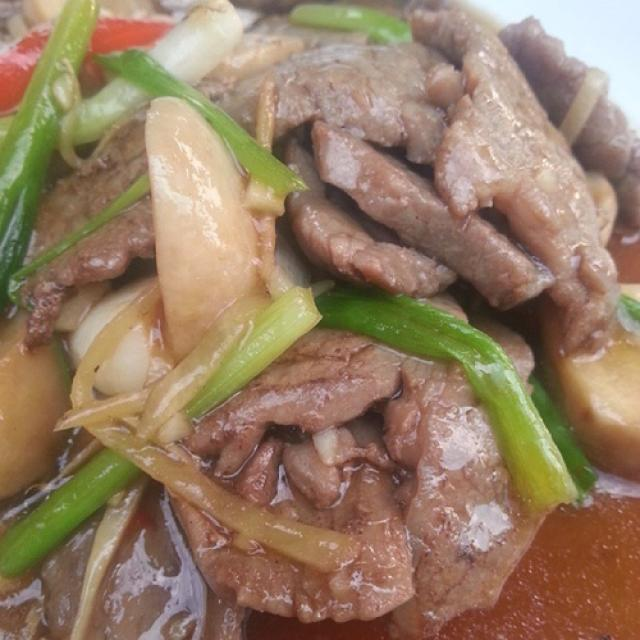牛肉菜式: (23, 28, 613, 602)
